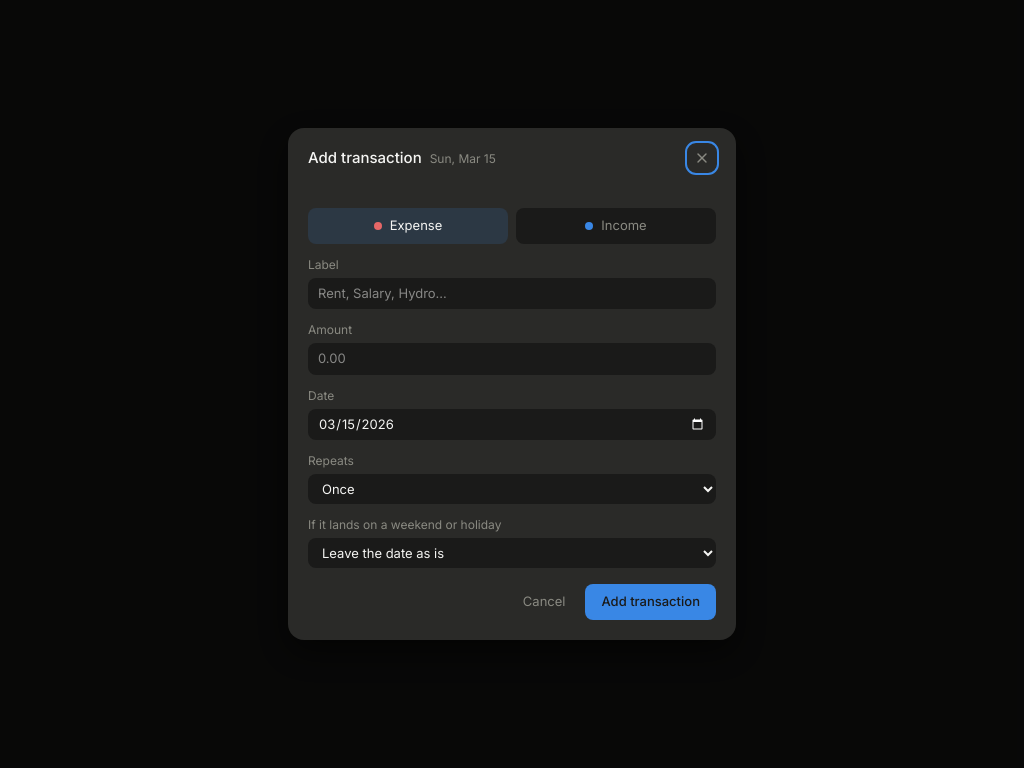
Test: paycheck › offers the paycheck option only for income
The width and height of the screenshot is (1024, 768).
Check: the field labelled "this is my paycheck" is not shown
Click the radio button labelled "income" at (616, 226), box [516, 208, 716, 244]
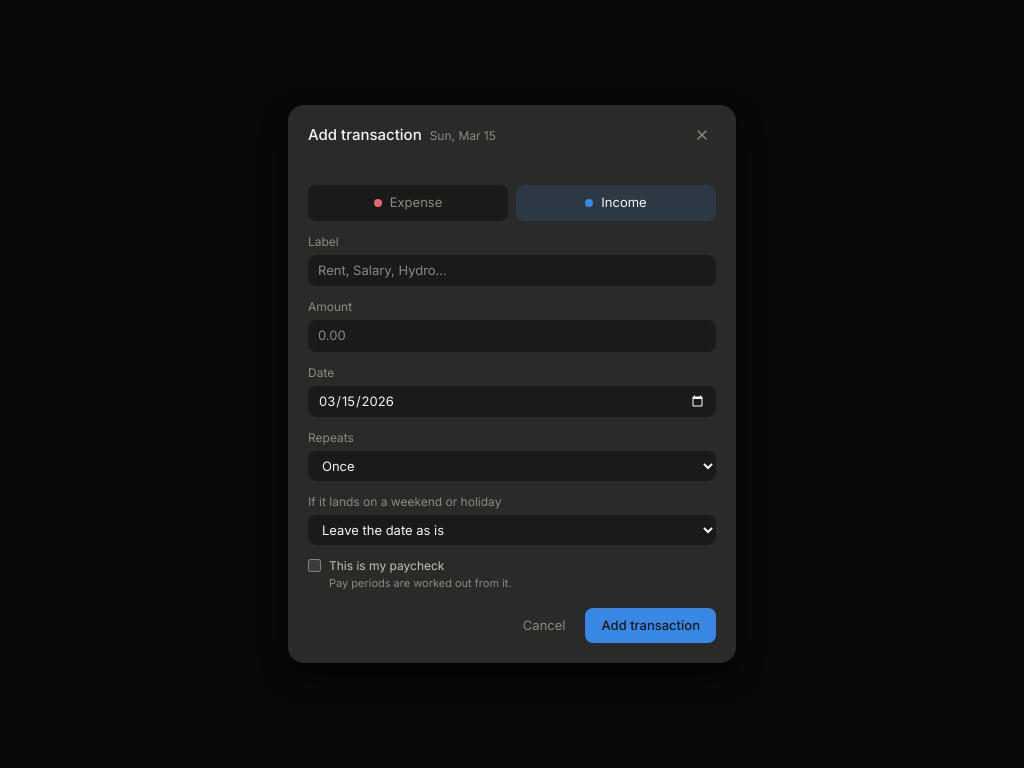
Check: the checkbox labelled "This is my paycheck Pay periods are worked out from it." is shown, box [308, 559, 321, 572]
